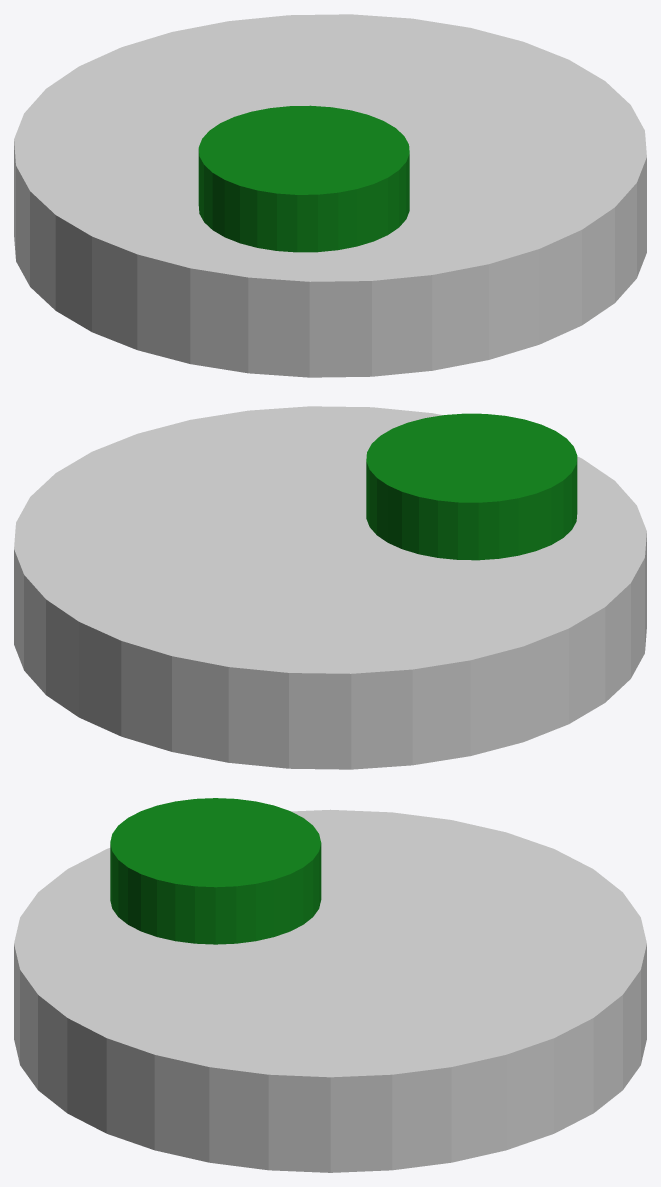
The model's file is reticencia.fbx.
3 renders of one model, top to bottom at view 1: azimuth 30°, elevation 25°; view 2: azimuth 150°, elevation 25°; view 3: azimuth 270°, elevation 25°, orthographic.
Parts seen in each view (by area): view 1: Cylinder.016; view 2: Cylinder.016; view 3: Cylinder.016.
Boxes of the visible parts, box(x1,y1,x2,y2) form: Cylinder.016: box(14, 14, 646, 377); Cylinder.016: box(14, 406, 646, 769); Cylinder.016: box(14, 798, 646, 1172).
Size of the model in its own units: 600 by 163 by 600.
